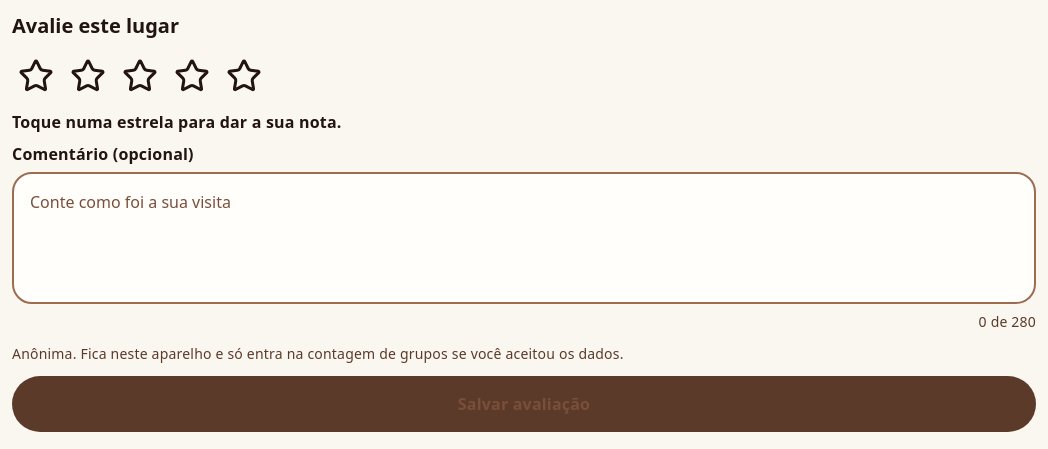
Scenario: ReviewForm › asks for a rating first, and Salvar waits for it
The width and height of the screenshot is (1048, 449).
Expected: the heading "Avalie este lugar" is shown, [12,12,179,39]
Expected: the text "Toque numa estrela para dar a sua nota." is shown, [12,111,342,133]
Click the radio button named "4 de 5 estrelas": (192, 76) [168,52,216,100]
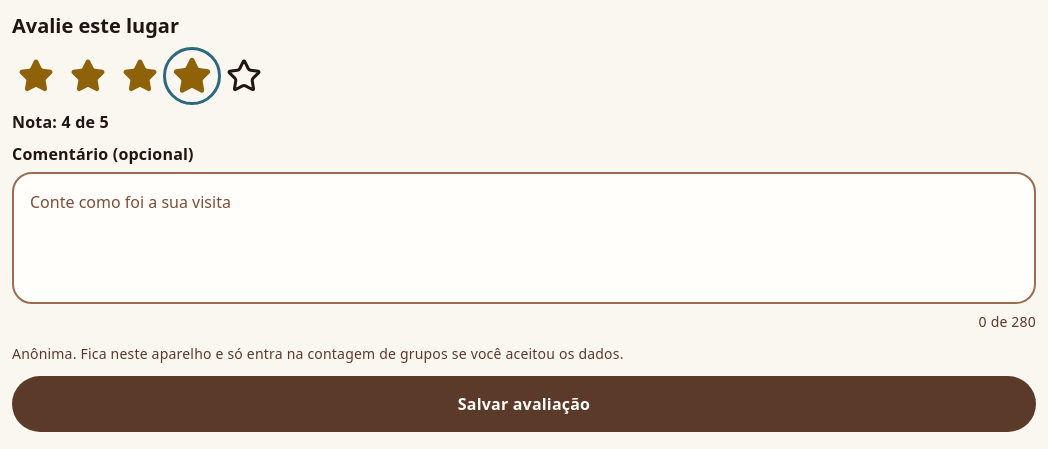
Now the text "Nota: 4 de 5" is shown, box [12,111,109,133]
Now the button "Salvar avaliação" is enabled, box [12,376,1036,432]
